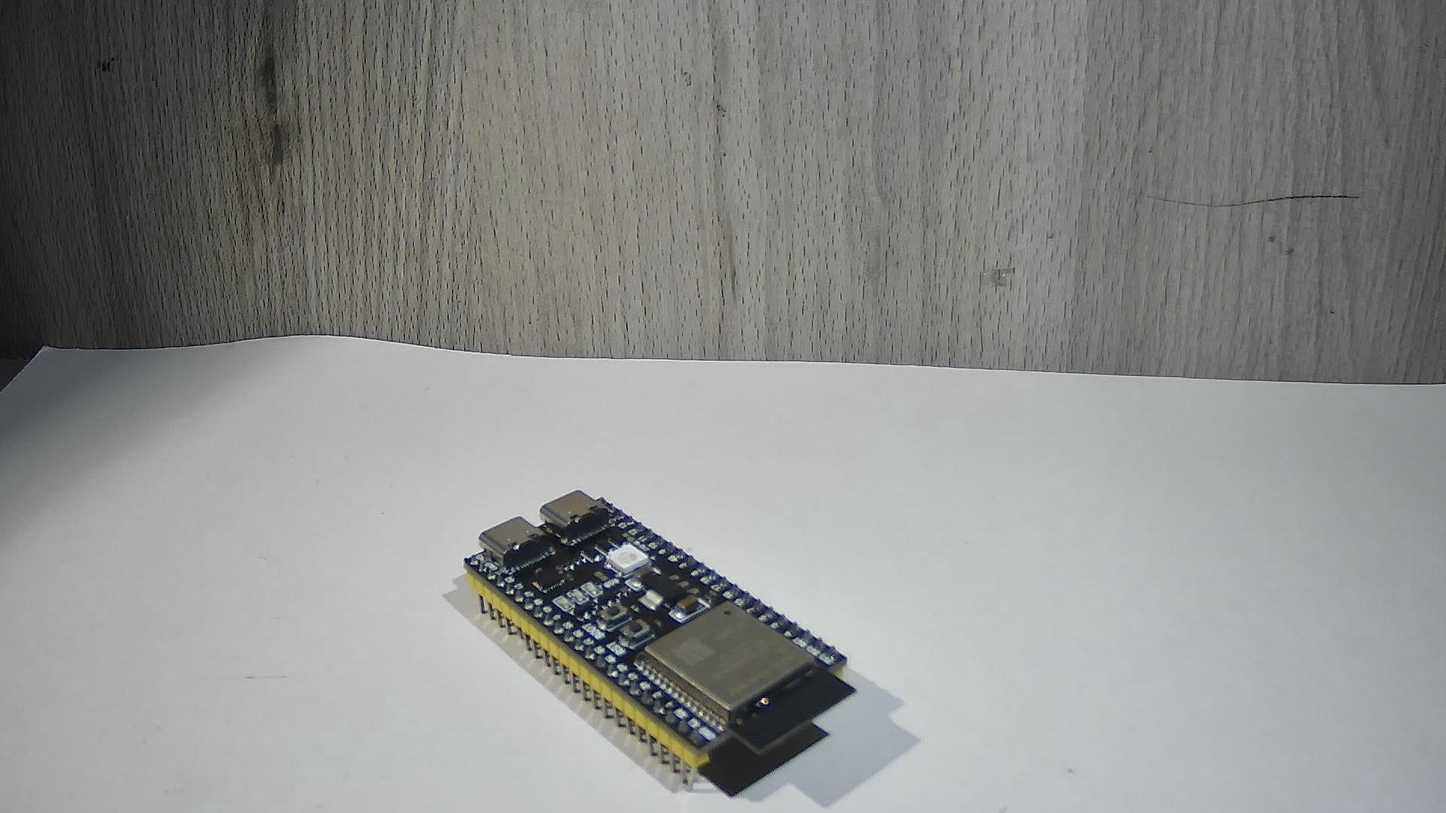ESP32: (439, 422, 881, 808)
